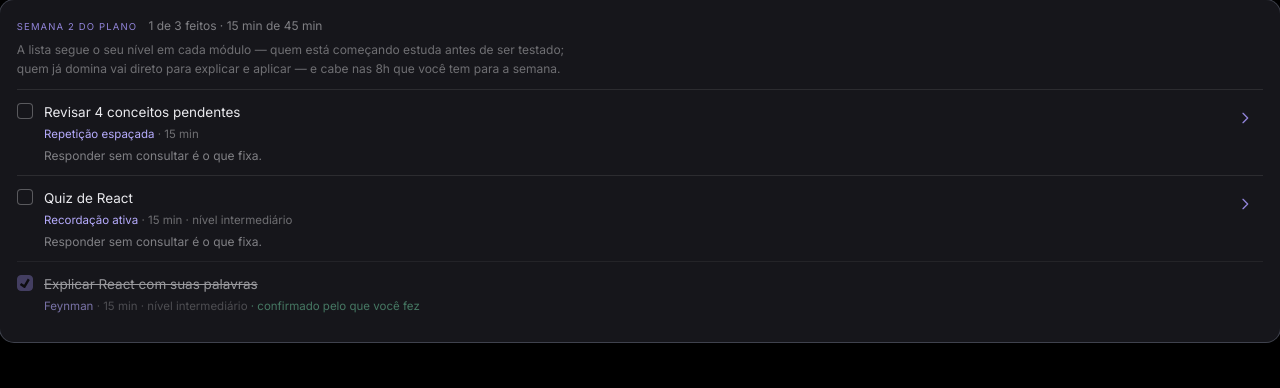
falha ao gravar devolve a caixa ao estado real
This screenshot has width=1280, height=388.
Click the checkbox labelled "Quiz de React": (25, 197) [17, 189, 33, 205]
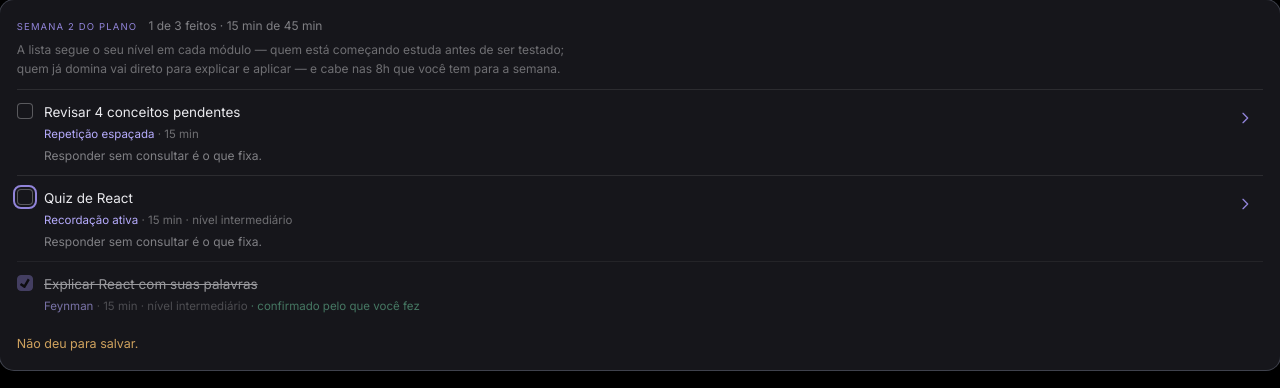
Result: the message reads "Não deu para salvar." at [17, 336, 138, 351]
